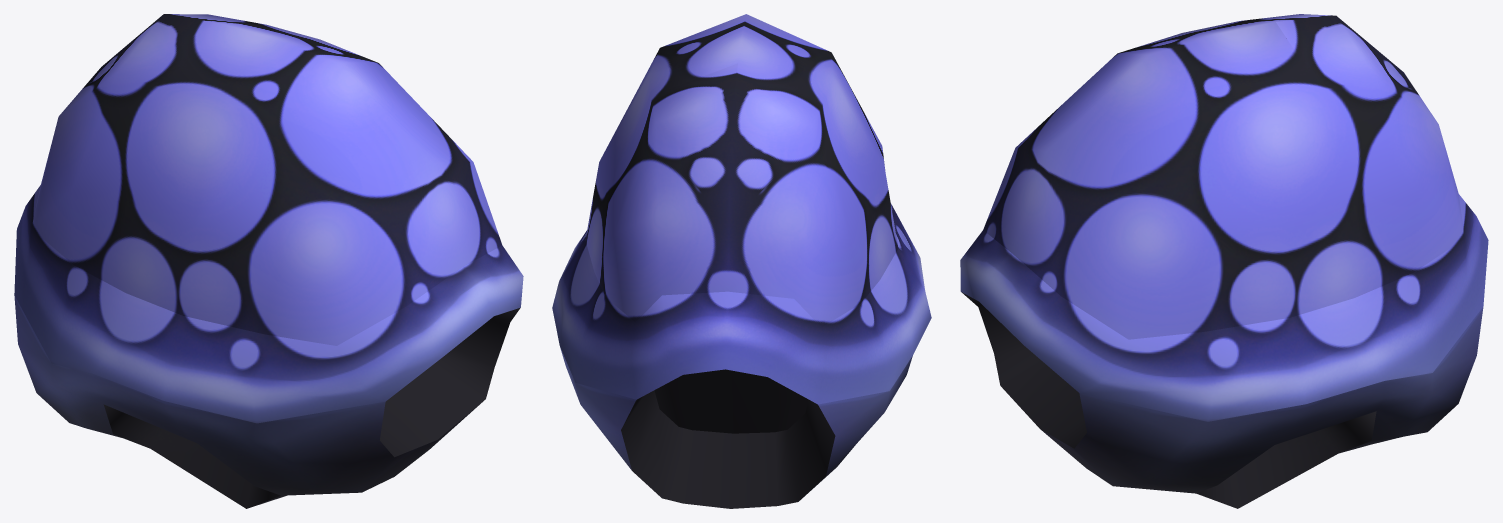
File: Gremlin_Shell.fbx
3 views of the same model, side by side, from view 1: azimuth 30°, elevation 25°; view 2: azimuth 150°, elevation 25°; view 3: azimuth 270°, elevation 25° (orthographic). The views are drawn at different scales.
Visible parts, largest first — view 1: shell; view 2: shell; view 3: shell.
Boxes of the visible parts, bbox=[...] form: shell: bbox=[14, 14, 523, 508]; shell: bbox=[552, 14, 931, 508]; shell: bbox=[960, 14, 1488, 508].
Size of the model in its own units: 1.75 by 2.03 by 2.13.
